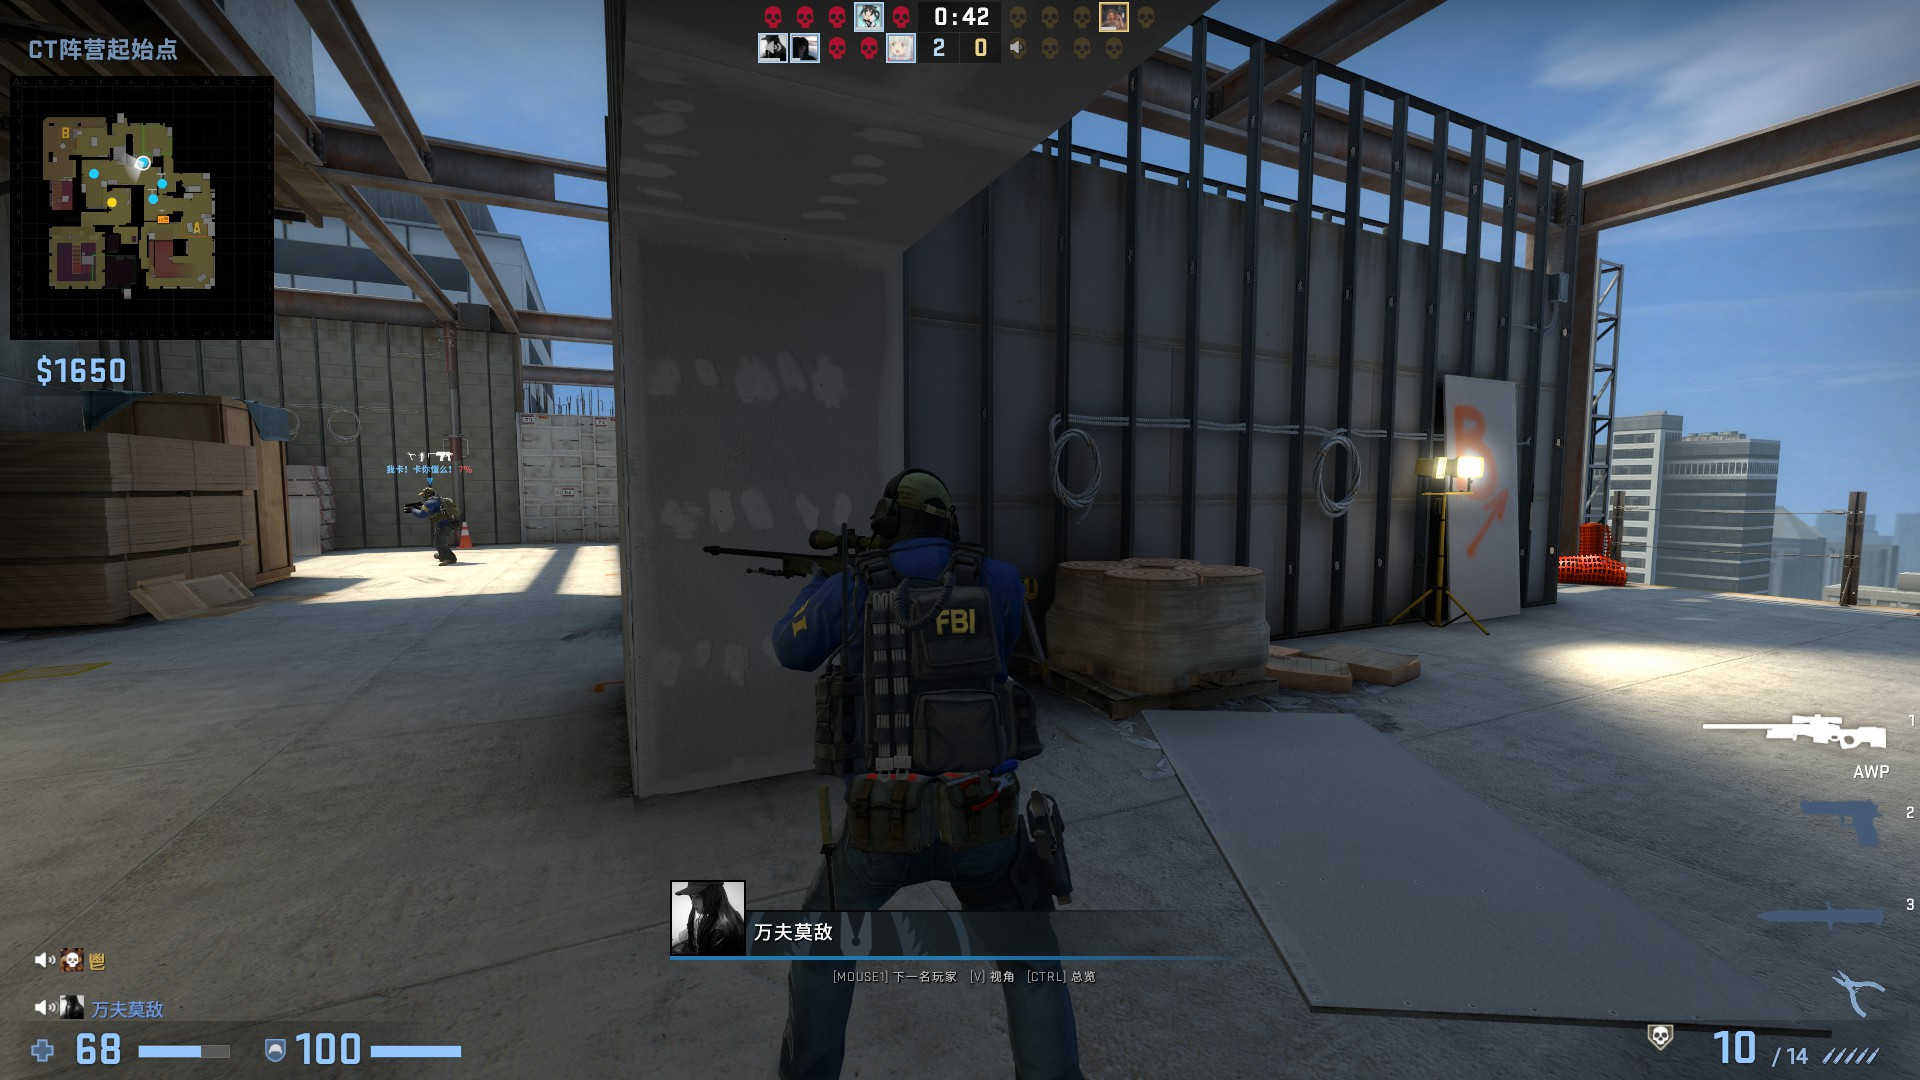head: (870, 466, 962, 547), (417, 486, 438, 500)
